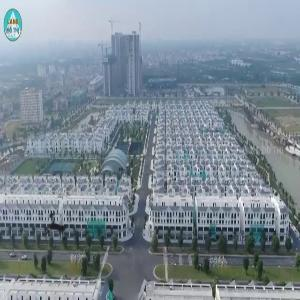drone: (23, 192, 98, 267)
